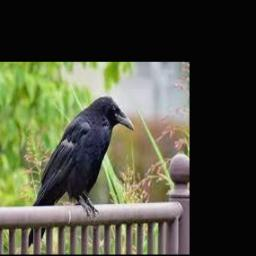Crow: (27, 96, 135, 248)
